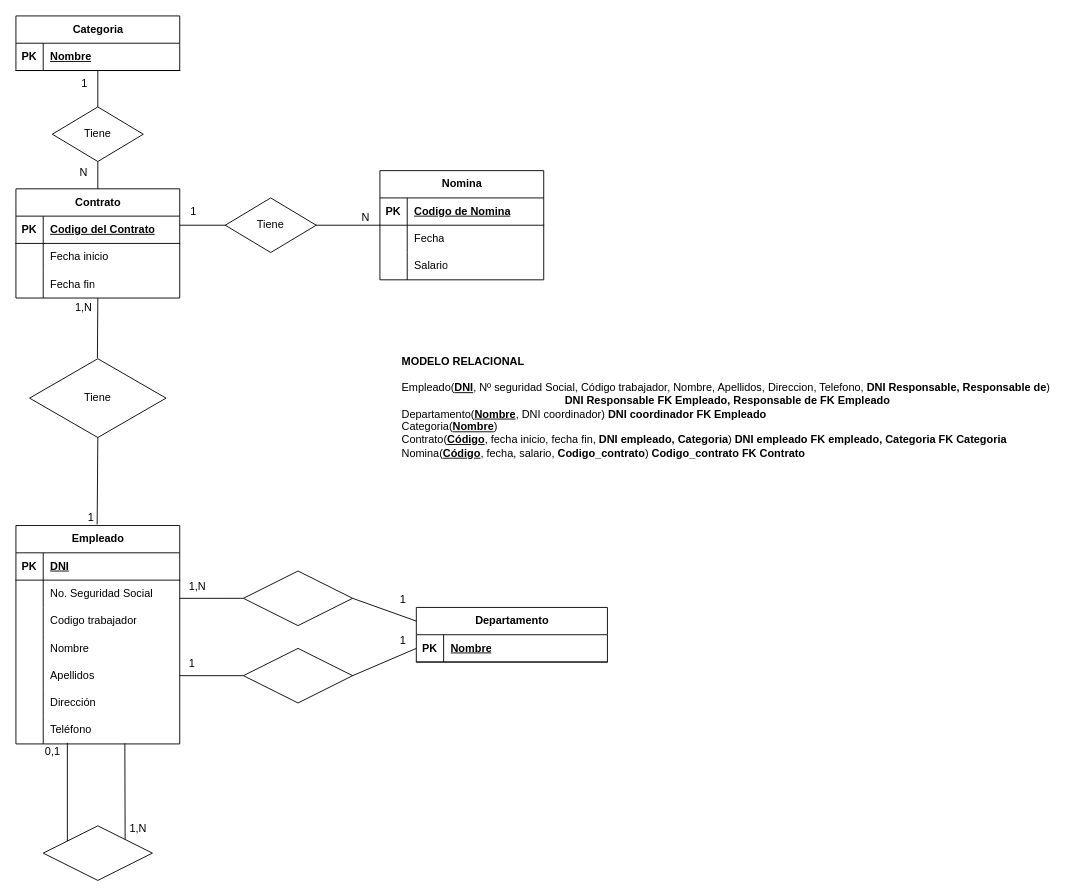
Some shapes in this 1078 by 896 pixel diagram are drawn without their labels. The centre of each missing label's shape, as x and y in pixels:
Coordina: the point at 298,675
Responsabiliza: the point at 97,852
Trabaja: the point at 298,598
